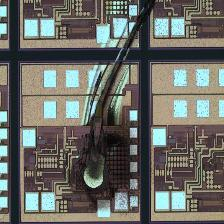BLOCK ETCH: (68, 1, 169, 203)
